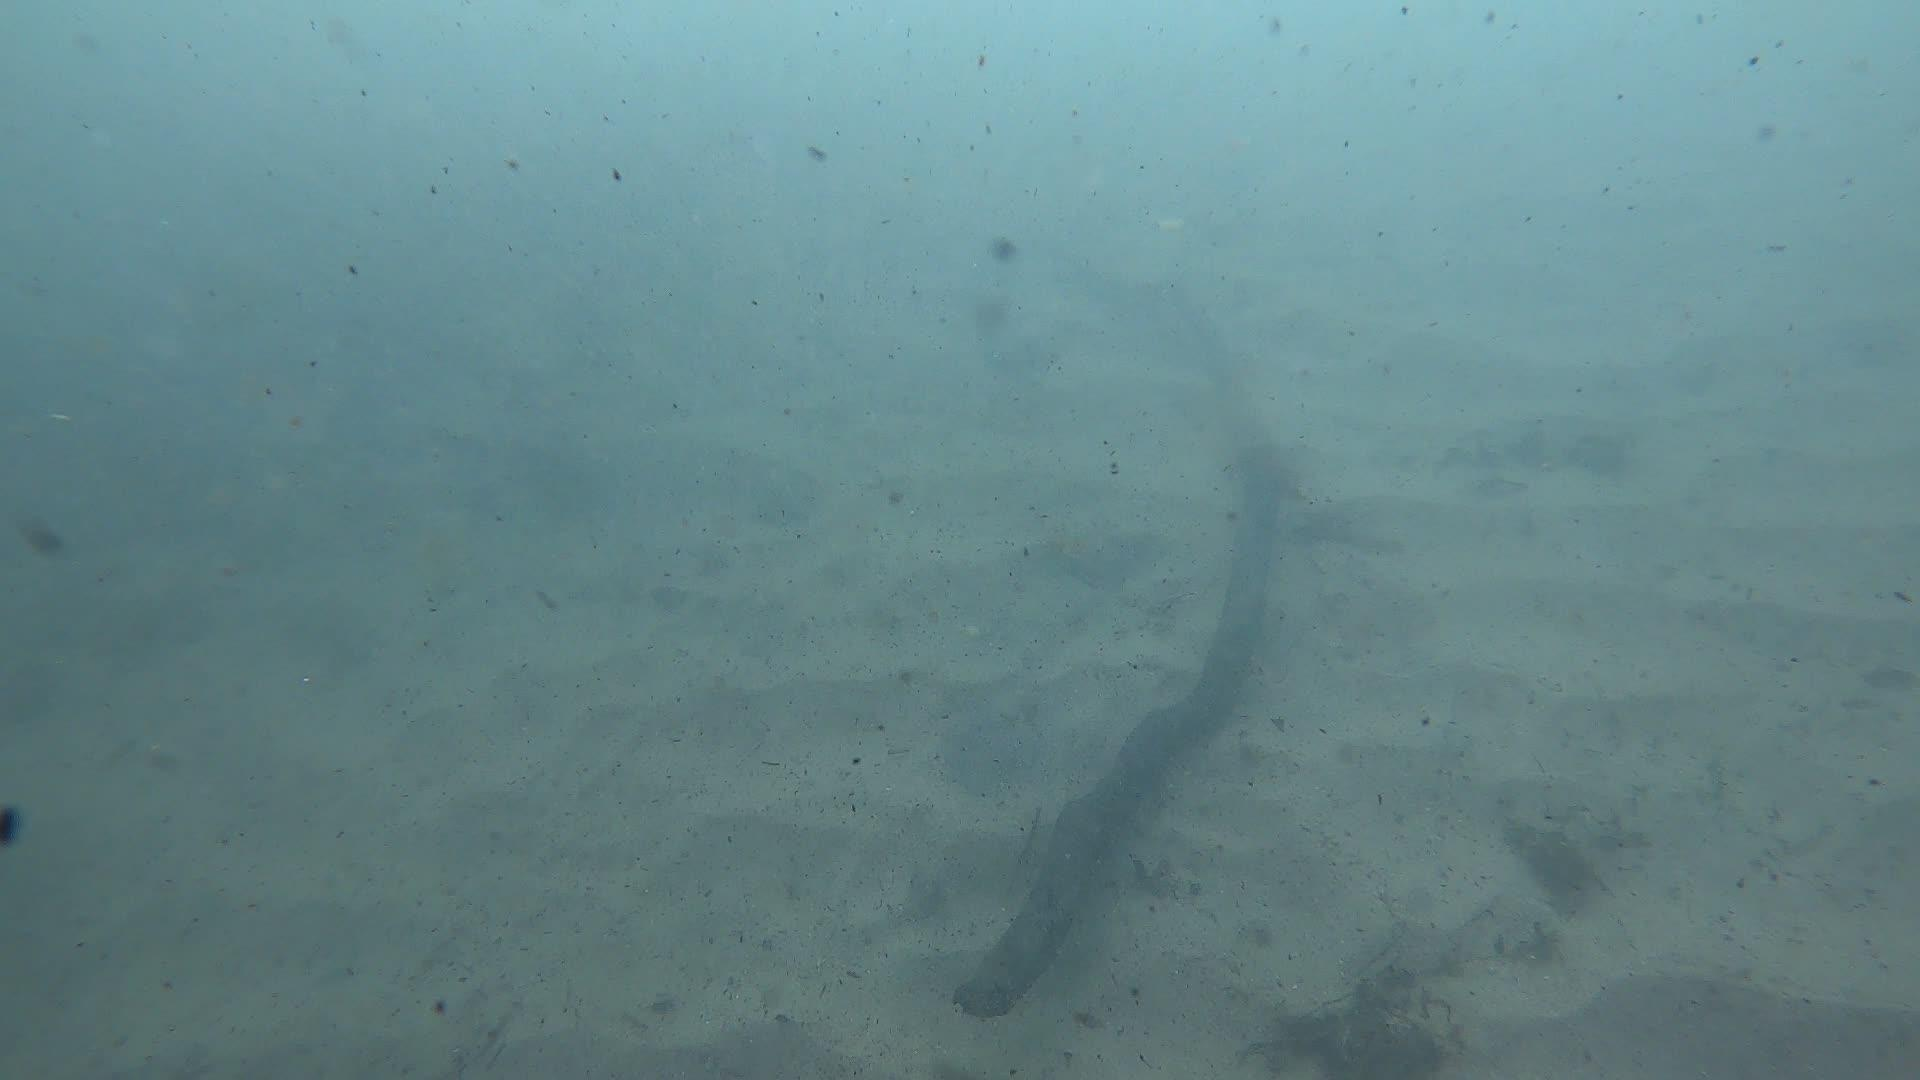wood: (953, 309, 1280, 1018)
